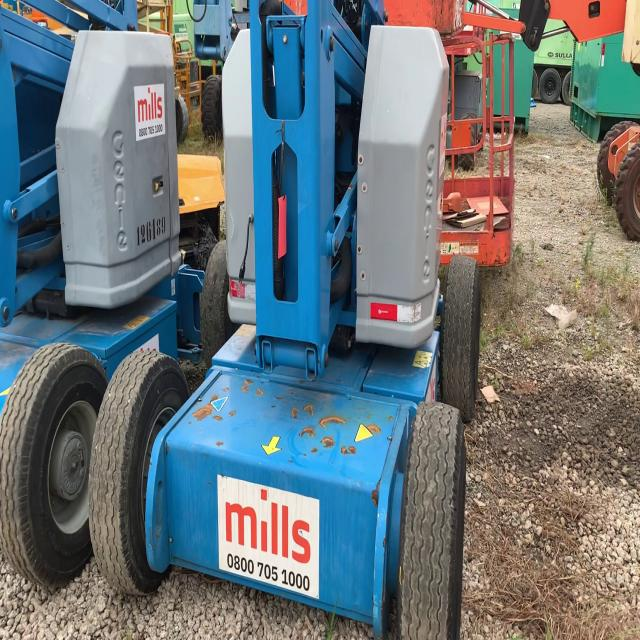Adesivos: (216, 472, 321, 603), (133, 81, 167, 143)
